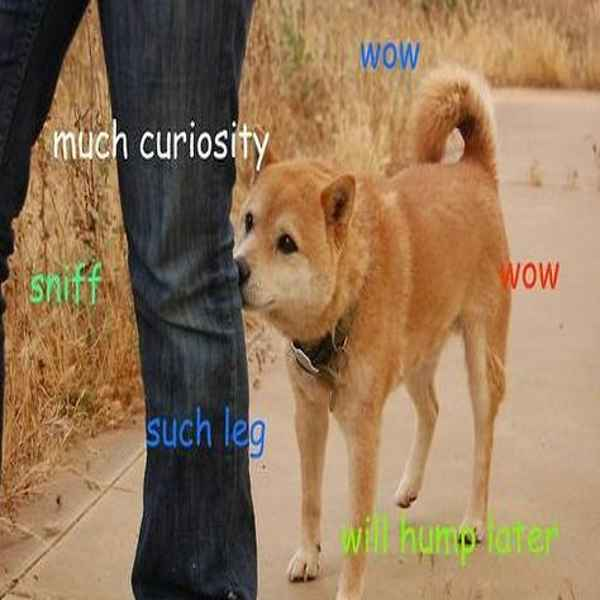doge: (212, 149, 369, 323)
